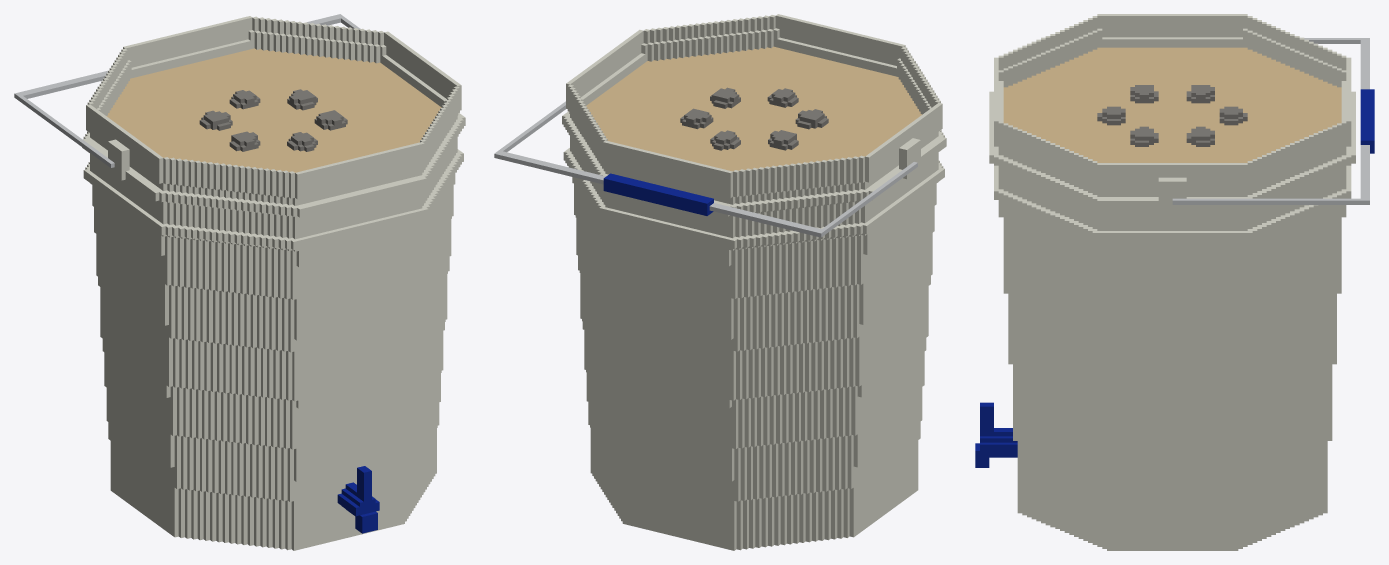
The model's file is water_filter_sand.glb.
3 views of the same model, side by side, from view 1: azimuth 30°, elevation 25°; view 2: azimuth 150°, elevation 25°; view 3: azimuth 270°, elevation 25° (orthographic). The views are drawn at different scales.
Visible parts, largest first — view 1: water_filter_sand:compound; view 2: water_filter_sand:compound; view 3: water_filter_sand:compound.
Boxes of the visible parts, x1=… form: water_filter_sand:compound: x1=14, y1=14, x2=465, y2=550; water_filter_sand:compound: x1=494, y1=14, x2=946, y2=550; water_filter_sand:compound: x1=975, y1=14, x2=1374, y2=550.
Bounding box in the file's own units: 0.328 × 0.372 × 0.34.
